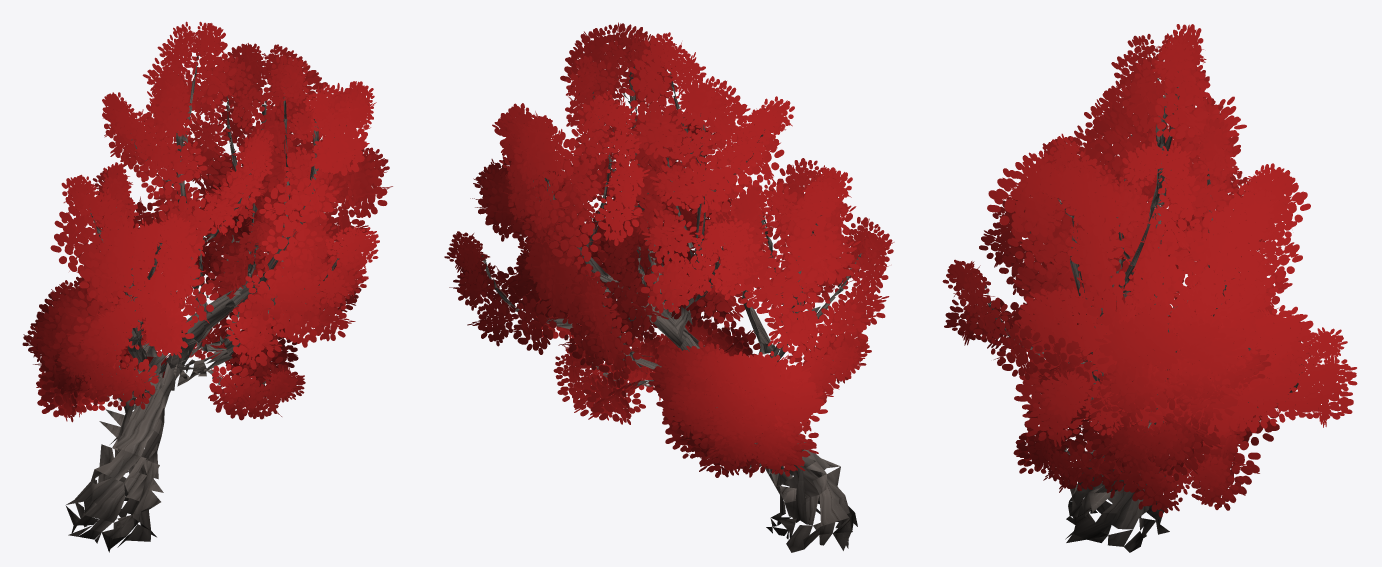
Rendered from twisted_tree.gltf.
The picture shows the model from 3 angles, left to right: view 1: azimuth 30°, elevation 25°; view 2: azimuth 150°, elevation 25°; view 3: azimuth 270°, elevation 25°; orthographic projection. The views are drawn at different scales.
Parts seen in each view (by area): view 1: TwistedTree_1; view 2: TwistedTree_1; view 3: TwistedTree_1.
Part boxes in pixels (x1,y1,x2,y2): TwistedTree_1: (22, 21, 392, 552); TwistedTree_1: (444, 22, 894, 552); TwistedTree_1: (942, 24, 1357, 552).
Size of the model in its own units: 13.52 by 16.96 by 11.55.
Materials: 2 (2 with a texture image).
